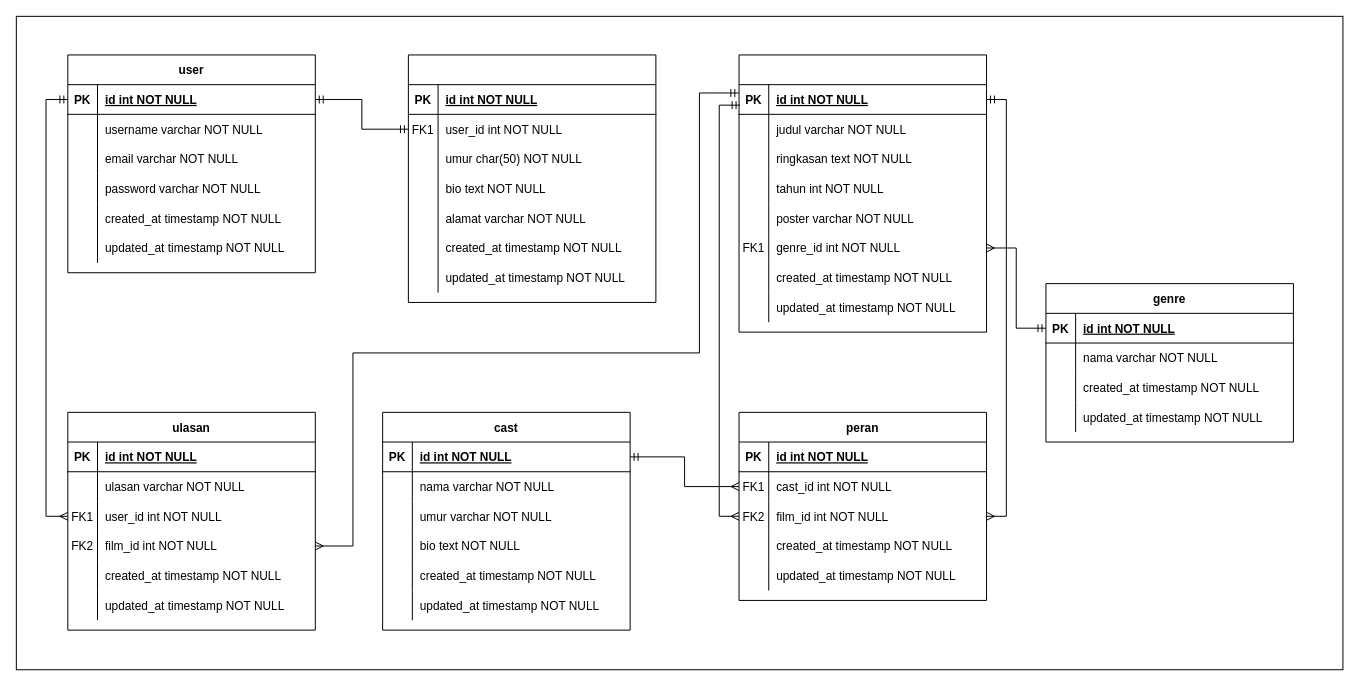
Image size: 1359x686. Some labels were removed from this diagram. Each missing label, with the box of its shape:
film: (738, 54, 987, 332)
profil: (407, 54, 656, 302)
